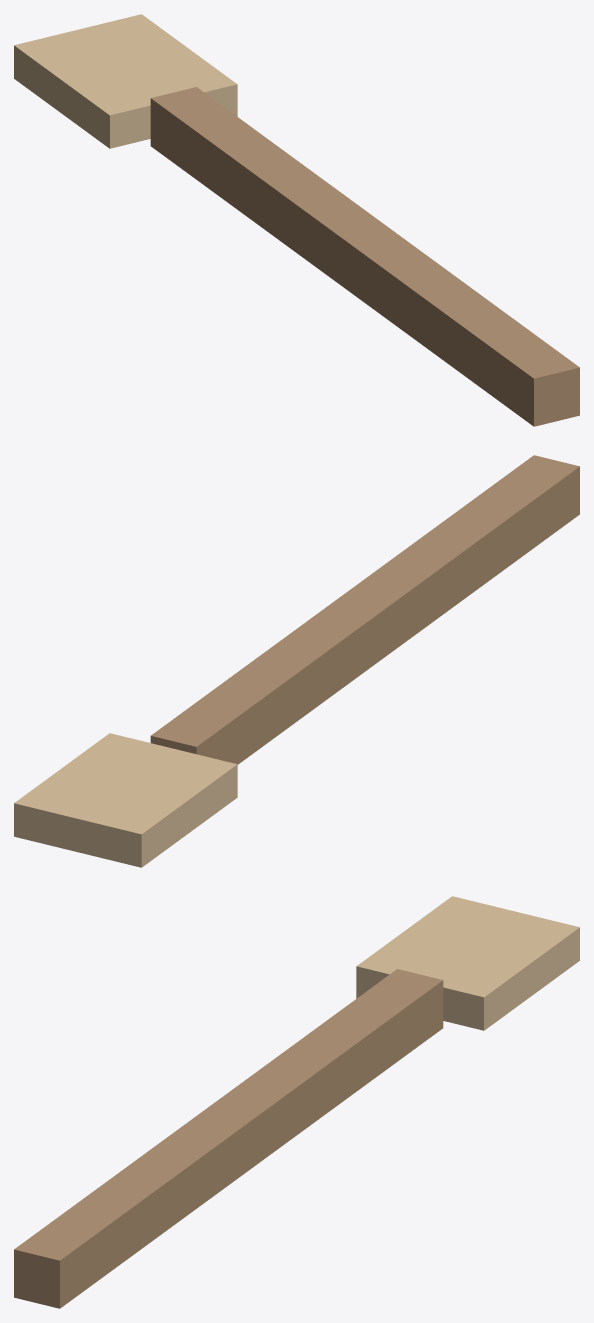
File: wood_shovel_held.gltf
The picture shows the model from 3 angles, top to bottom: view 1: azimuth 30°, elevation 25°; view 2: azimuth 150°, elevation 25°; view 3: azimuth 330°, elevation 25°; orthographic projection.
Parts seen in each view (by area): view 1: tools_wood_shovel_held; view 2: tools_wood_shovel_held; view 3: tools_wood_shovel_held.
Part boxes in pixels (box(x1,y1,x2,y2)): tools_wood_shovel_held: box(14, 14, 579, 426); tools_wood_shovel_held: box(14, 455, 579, 867); tools_wood_shovel_held: box(14, 896, 579, 1308).
Bounding box in the file's own units: 0.1 × 0.036 × 0.65.
